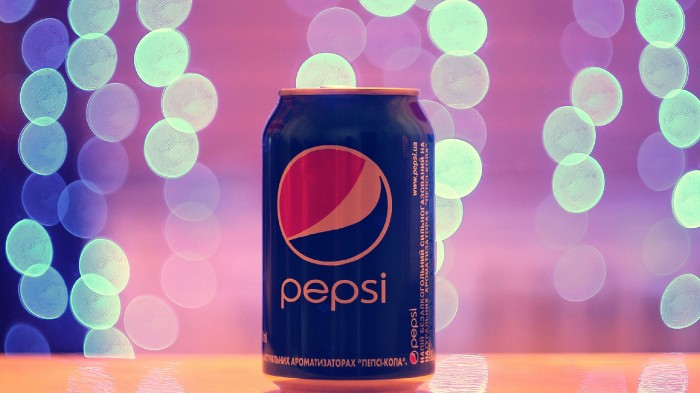pepsi: (273, 143, 392, 265), (273, 145, 392, 265), (275, 143, 392, 265)
